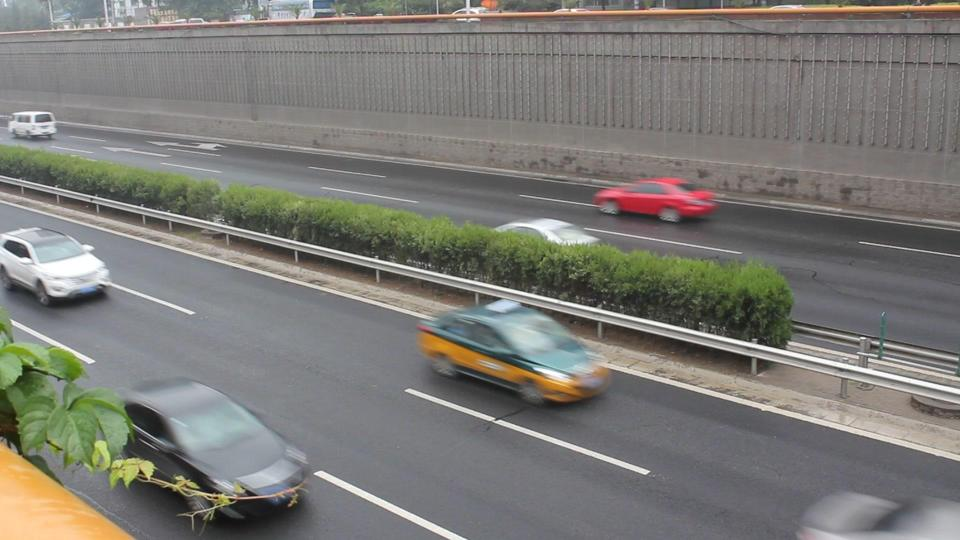car: (113, 376, 310, 522), (415, 298, 612, 406), (594, 179, 722, 222), (493, 218, 602, 245)
truck: (9, 111, 58, 140)
